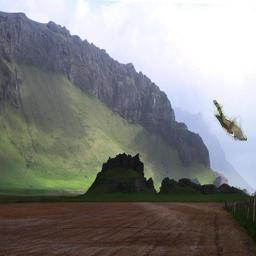Cuckoo: (213, 100, 247, 141)
